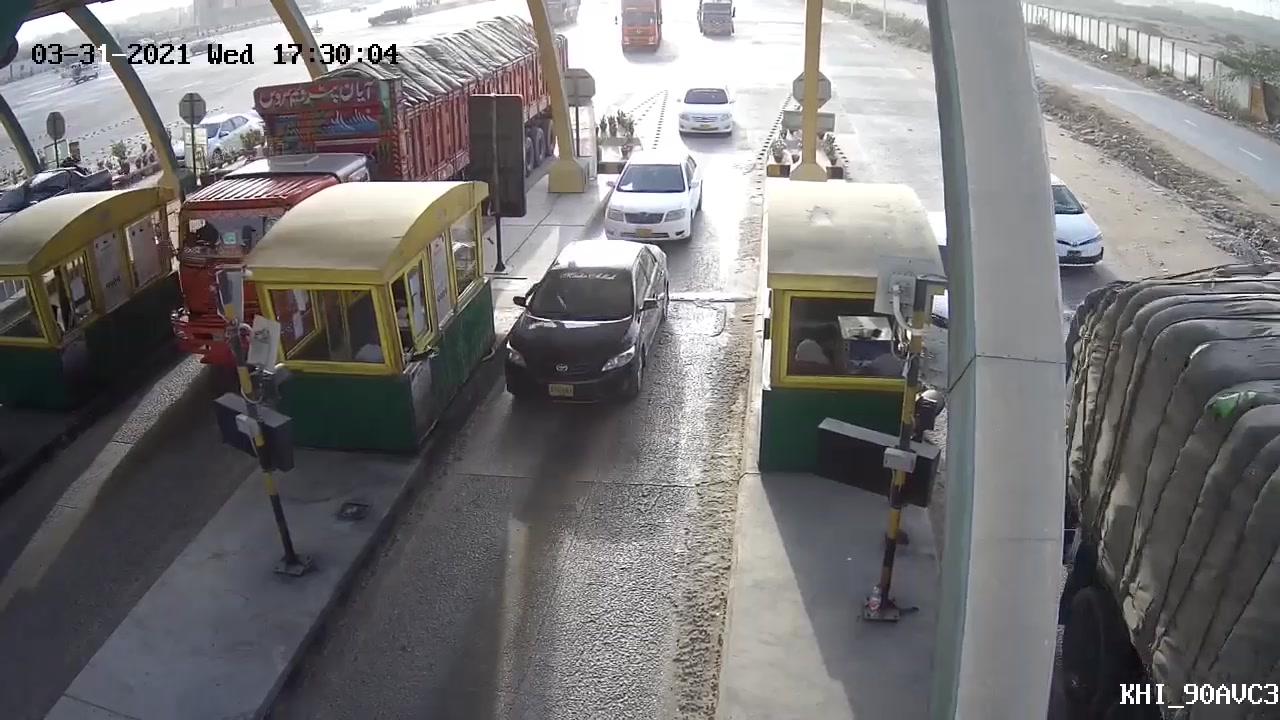F1: (486, 235, 672, 430)
